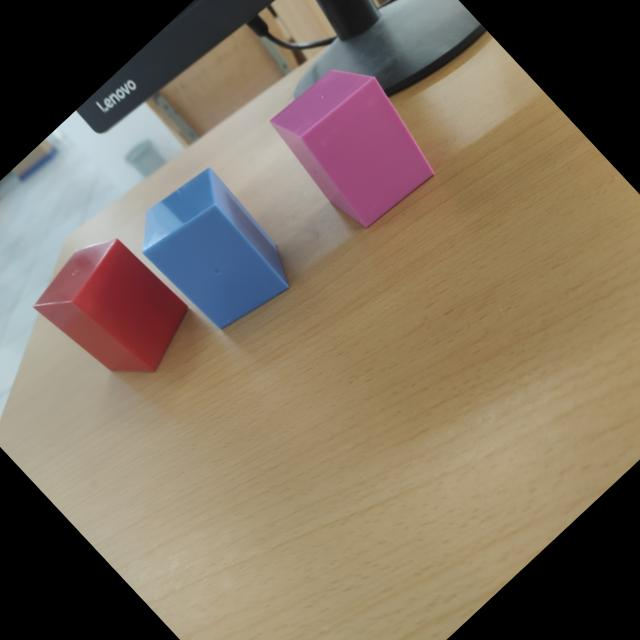blue: (143, 169, 291, 330)
pink: (272, 70, 436, 231)
red: (37, 237, 190, 374)
